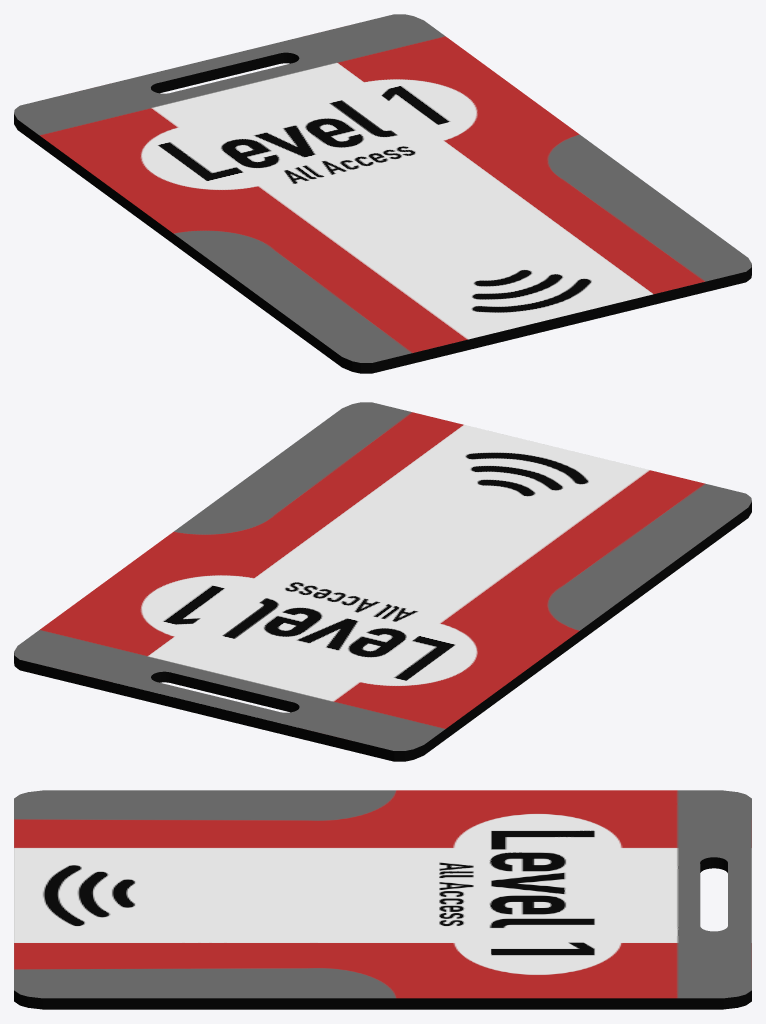
Rendered from KeyCard1.fbx.
The picture shows the model from 3 angles, top to bottom: view 1: azimuth 30°, elevation 25°; view 2: azimuth 150°, elevation 25°; view 3: azimuth 270°, elevation 25°; orthographic projection. The views are drawn at different scales.
Visible parts, largest first — view 1: Plane.001, Plane; view 2: Plane.001, Plane; view 3: Plane.001, Plane.
Part boxes in pixels (x1,y1,x2,y2): Plane.001: (14, 14, 751, 362); Plane: (14, 52, 751, 373); Plane.001: (14, 402, 751, 750); Plane: (14, 502, 751, 761); Plane.001: (14, 790, 751, 998); Plane: (14, 857, 751, 1009).
Size of the model in its own units: 200 by 5 by 300.
